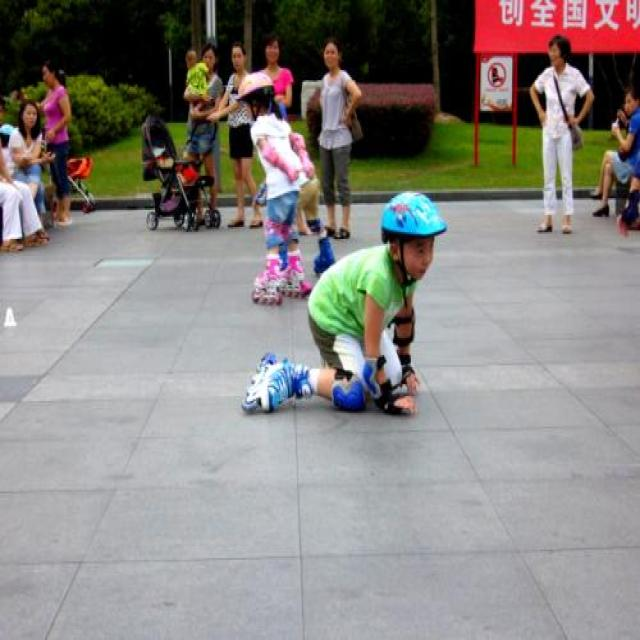10-: (0, 32, 639, 422)
down: (233, 188, 454, 420)
